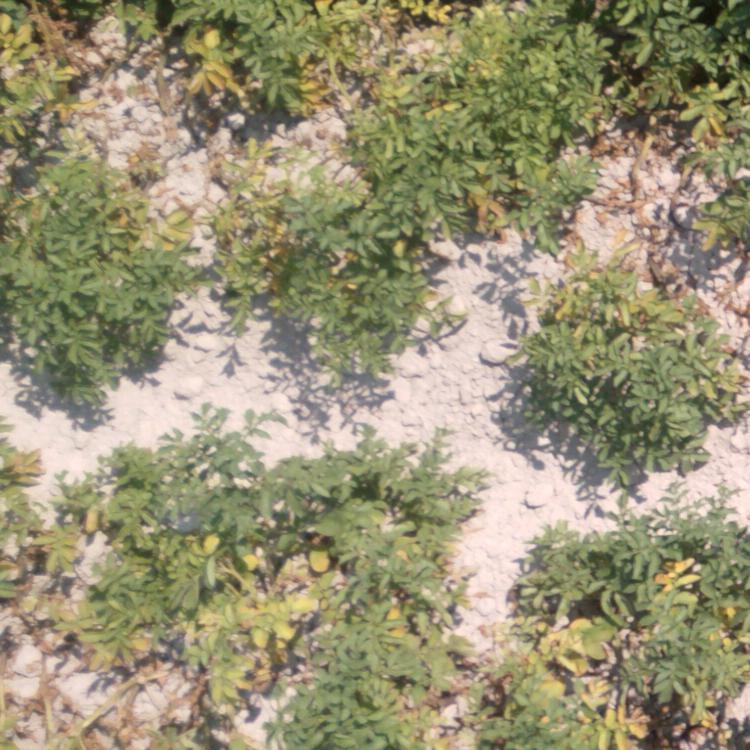healthy: (161, 449, 451, 516), (6, 224, 110, 374), (335, 181, 406, 341), (621, 6, 733, 46)
stressed: (482, 537, 743, 741), (540, 273, 739, 450), (112, 529, 310, 703), (129, 124, 321, 300), (331, 523, 471, 742), (395, 1, 616, 125), (160, 1, 373, 119), (1, 446, 106, 656), (627, 62, 750, 241), (1, 11, 112, 164), (455, 133, 581, 248)
